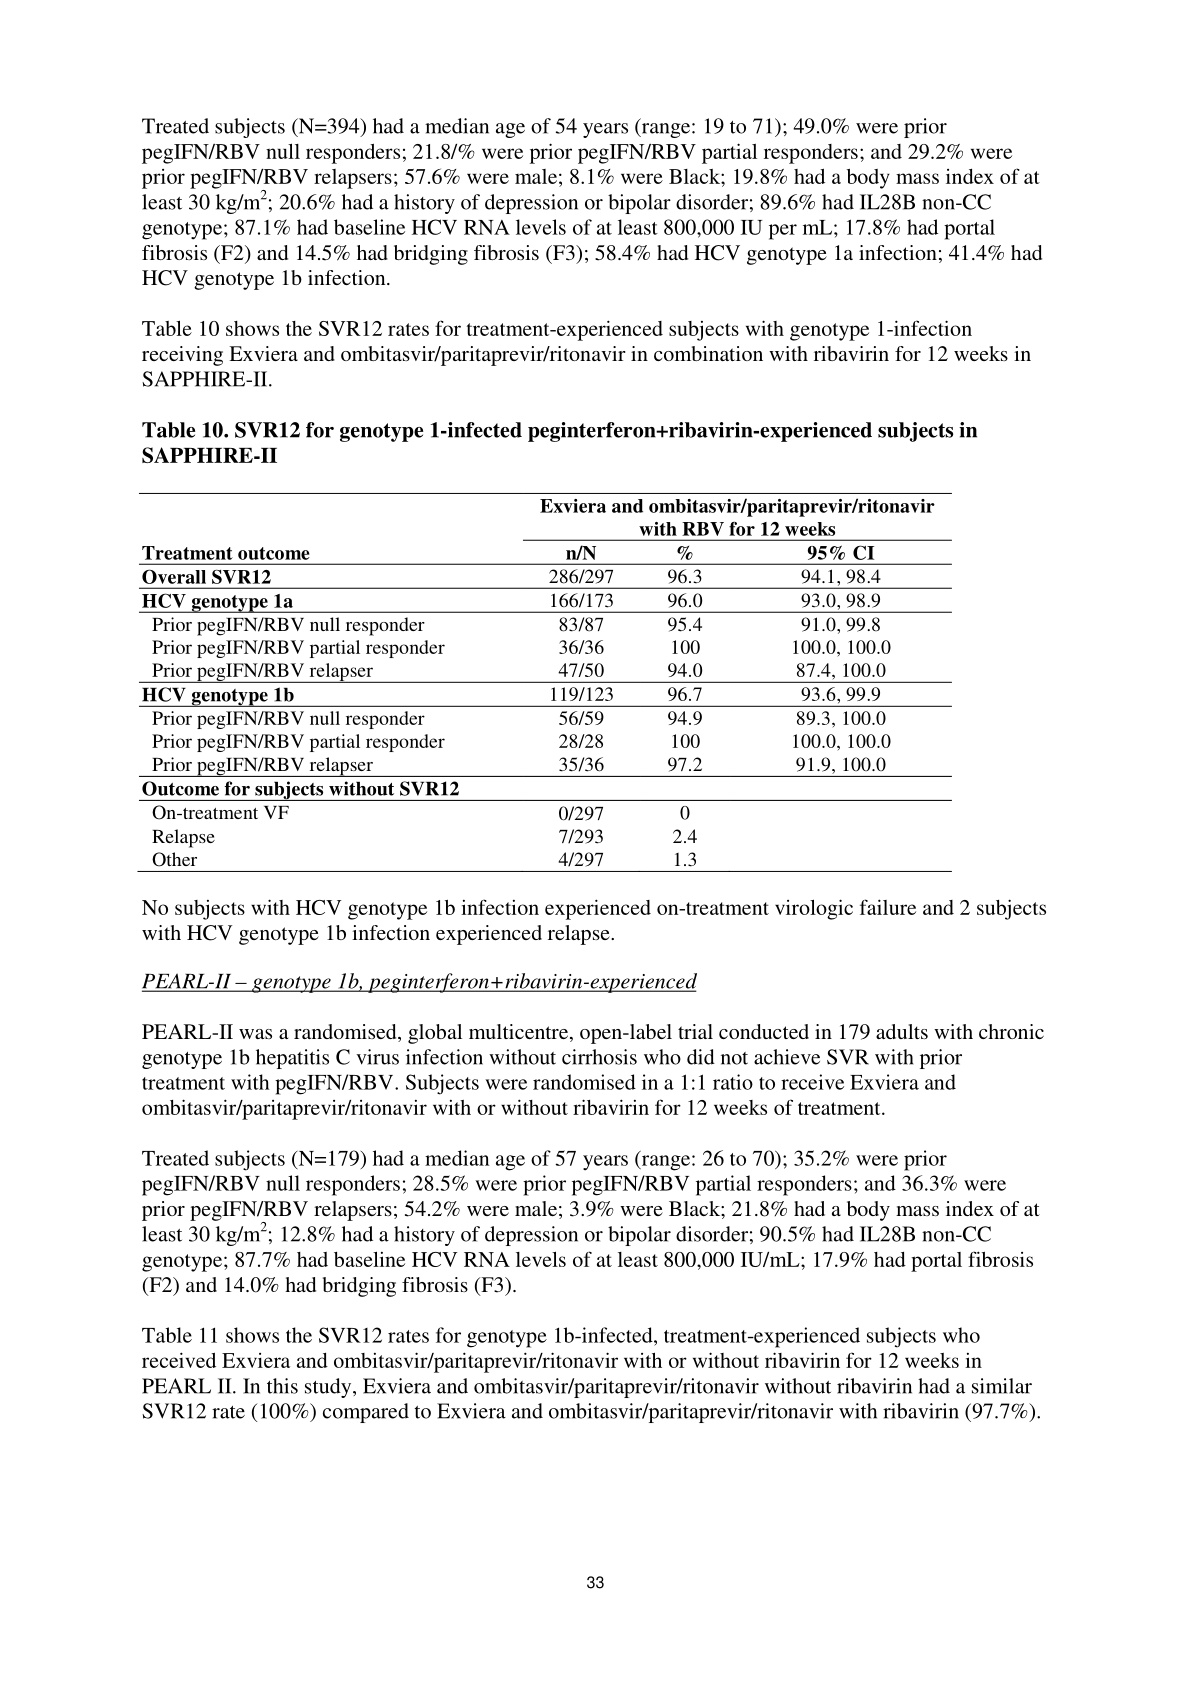partial_lined_merged_cells: (137, 491, 954, 875)
